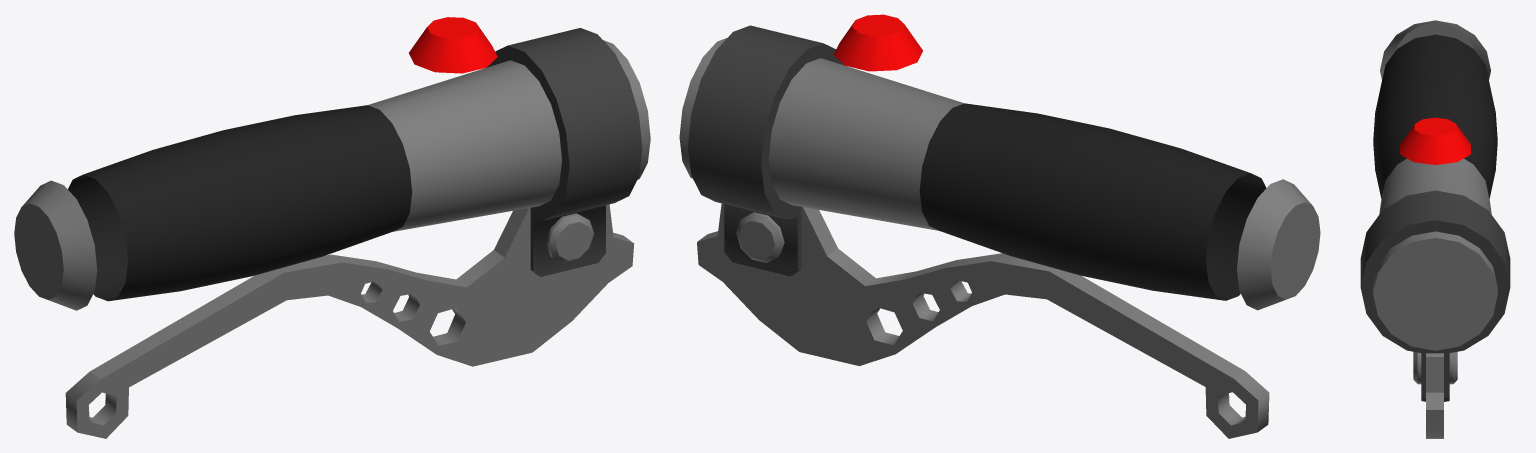
Rendered from Swi_WoBa_1X2_on.FBX.
3 views of the same model, side by side, from view 1: azimuth 30°, elevation 25°; view 2: azimuth 150°, elevation 25°; view 3: azimuth 270°, elevation 25° (orthographic). The views are drawn at different scales.
Visible parts, largest first — view 1: Box013; view 2: Box013; view 3: Box013.
Boxes of the visible parts, <box> form: Box013: <box>14,17,650,438</box>; Box013: <box>679,14,1320,438</box>; Box013: <box>1360,20,1510,438</box>.
Bounding box in the file's own units: 2.28 × 1.25 × 0.69.
